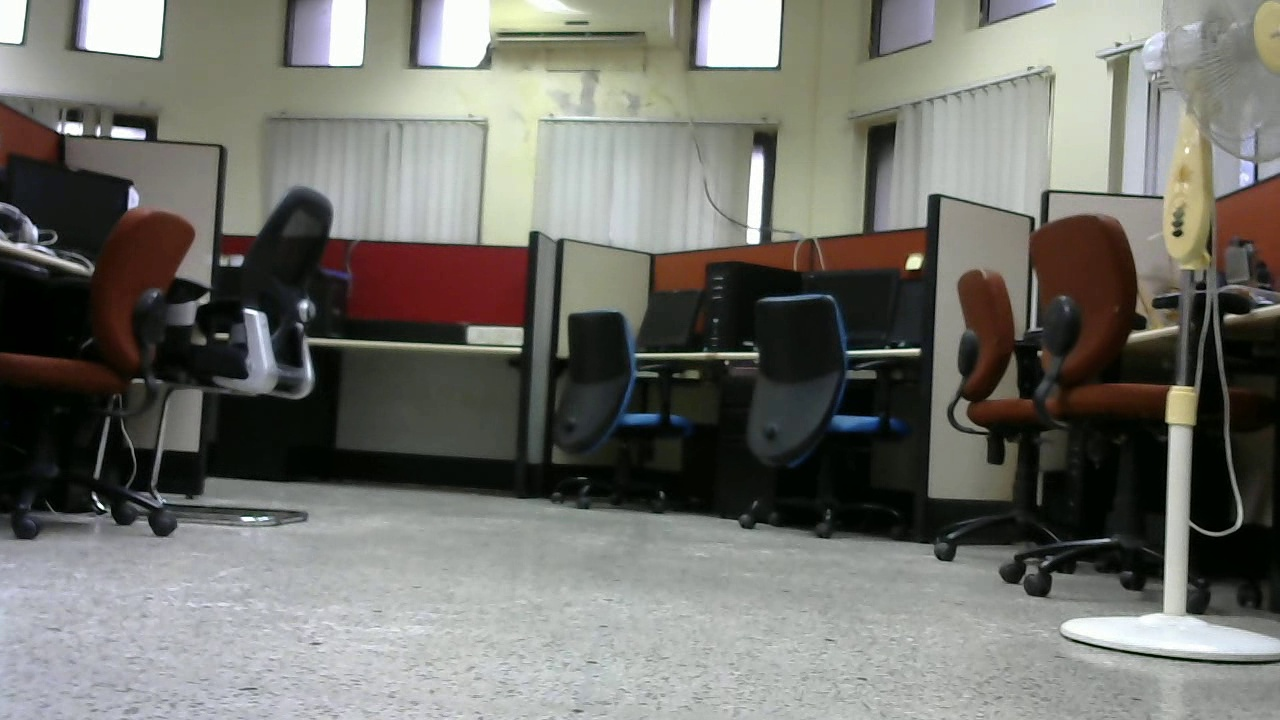chair: (1019, 214, 1226, 606), (186, 181, 342, 534), (19, 203, 186, 532), (936, 267, 1078, 572), (740, 290, 905, 541), (547, 312, 697, 519)
